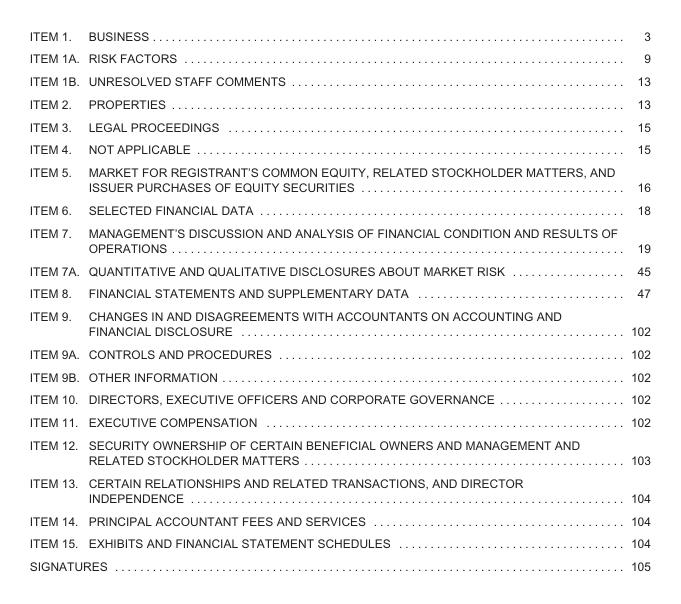table: (28, 28, 649, 572)
table column: (83, 28, 623, 572), (28, 28, 83, 572), (623, 28, 649, 572)
table column header: (28, 28, 649, 46)
table row: (28, 160, 649, 198), (28, 304, 649, 342), (28, 433, 649, 471), (28, 221, 649, 258), (28, 471, 649, 508), (28, 46, 649, 69), (28, 69, 649, 92), (28, 92, 649, 115), (28, 137, 649, 160), (28, 198, 649, 221), (28, 258, 649, 281), (28, 281, 649, 304), (28, 342, 649, 365), (28, 387, 649, 410), (28, 410, 649, 433), (28, 508, 649, 531), (28, 531, 649, 554), (28, 115, 649, 137), (28, 365, 649, 387), (28, 28, 649, 46), (28, 554, 649, 572)
table spanning cell: (28, 554, 623, 572)
